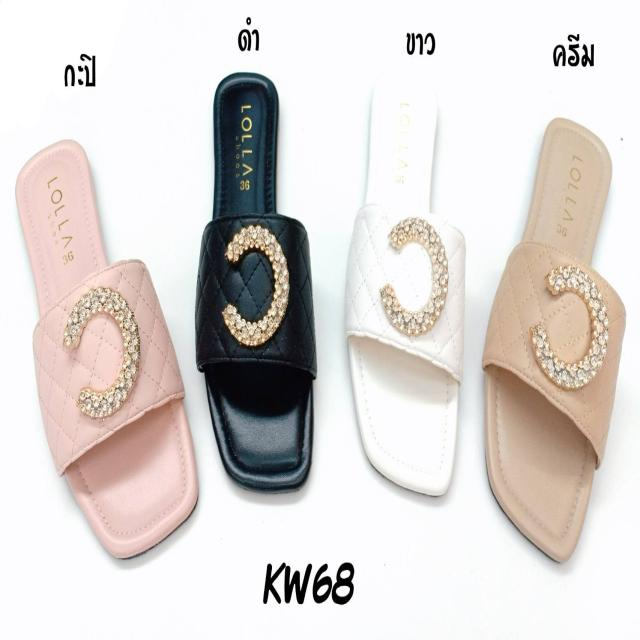black: (211, 78, 312, 486)
cream: (492, 119, 622, 559)
kapi: (16, 142, 198, 565)
white: (350, 83, 462, 499)
